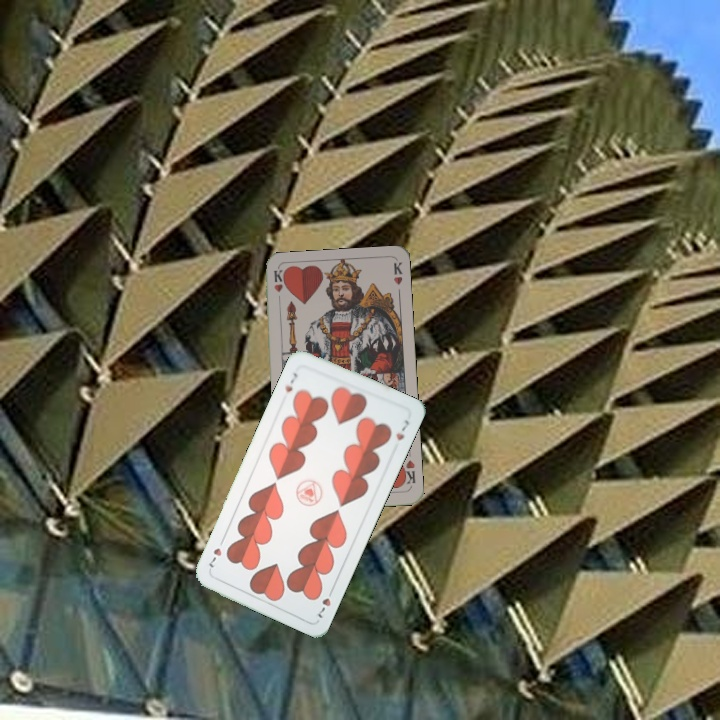H7: (314, 584, 336, 621), (280, 368, 301, 395)
HK: (398, 456, 417, 489), (270, 267, 285, 308)
